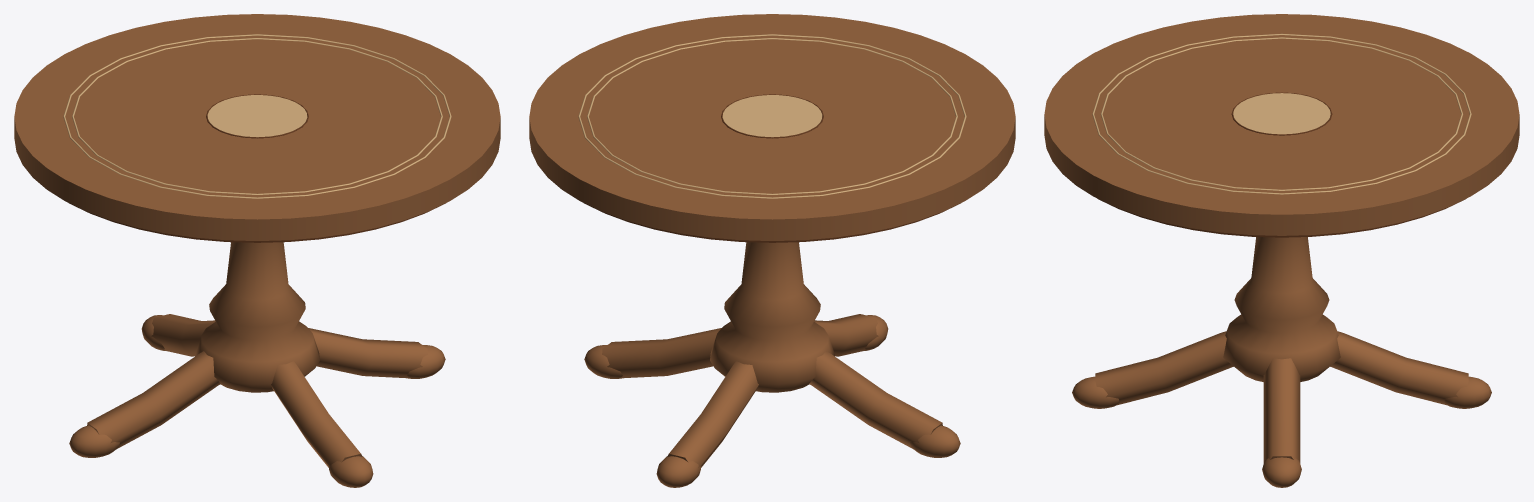
The model's file is table_round_pedestal.glb.
3 views of the same model, side by side, from view 1: azimuth 30°, elevation 25°; view 2: azimuth 150°, elevation 25°; view 3: azimuth 270°, elevation 25° (orthographic). The views are drawn at different scales.
Parts seen in each view (by area): view 1: Round walnut tabletop, Turned central pedestal, Swept pedestal foot.002, Swept pedestal foot, Swept pedestal foot.003, Center inlaid medallion, Circular tabletop inlay.001, Circular tabletop inlay, Swept pedestal foot.001, Rounded foot end.002, Rounded foot end.003, Lower beveled-looking rim (+1 smaller); view 2: Round walnut tabletop, Turned central pedestal, Swept pedestal foot.002, Swept pedestal foot, Swept pedestal foot.001, Center inlaid medallion, Circular tabletop inlay.001, Circular tabletop inlay, Swept pedestal foot.003, Rounded foot end.002, Rounded foot end.001, Lower beveled-looking rim (+1 smaller); view 3: Round walnut tabletop, Turned central pedestal, Swept pedestal foot.001, Swept pedestal foot.003, Swept pedestal foot, Center inlaid medallion, Circular tabletop inlay.001, Circular tabletop inlay, Rounded foot end, Rounded foot end.001, Rounded foot end.003, Lower beveled-looking rim.
Boxes of the visible parts, x1,y1,x2,y2 form: Round walnut tabletop: (14,14,500,240); Turned central pedestal: (195,242,319,392); Swept pedestal foot.002: (87,351,220,449); Swept pedestal foot: (308,328,427,378); Swept pedestal foot.003: (271,361,362,467); Center inlaid medallion: (207,95,307,137); Circular tabletop inlay.001: (63,34,451,198); Circular tabletop inlay: (72,38,442,194); Swept pedestal foot.001: (151,314,215,356); Rounded foot end.002: (69,425,119,457); Rounded foot end.003: (328,456,373,487); Lower beveled-looking rim: (69,203,445,242); Round walnut tabletop: (529,14,1015,240); Turned central pedestal: (710,242,834,392); Swept pedestal foot.002: (809,351,942,449); Swept pedestal foot: (602,328,721,378); Swept pedestal foot.001: (667,361,758,467); Center inlaid medallion: (722,95,822,137); Circular tabletop inlay.001: (578,34,966,198); Circular tabletop inlay: (587,38,957,194); Swept pedestal foot.003: (814,314,878,356); Rounded foot end.002: (910,425,960,457); Rounded foot end.001: (656,456,701,487); Lower beveled-looking rim: (584,203,960,242); Round walnut tabletop: (1044,14,1519,235); Turned central pedestal: (1223,237,1340,381); Swept pedestal foot.001: (1330,331,1468,405); Swept pedestal foot.003: (1095,331,1233,405); Swept pedestal foot: (1263,358,1300,463); Center inlaid medallion: (1233,93,1330,134); Circular tabletop inlay.001: (1092,33,1471,194); Circular tabletop inlay: (1100,37,1463,190); Rounded foot end: (1262,457,1301,487); Rounded foot end.001: (1444,376,1491,408); Rounded foot end.003: (1072,376,1119,408); Lower beveled-looking rim: (1097,198,1466,237).
Size of the model in its own units: 1.12 by 0.7626 by 1.12.
